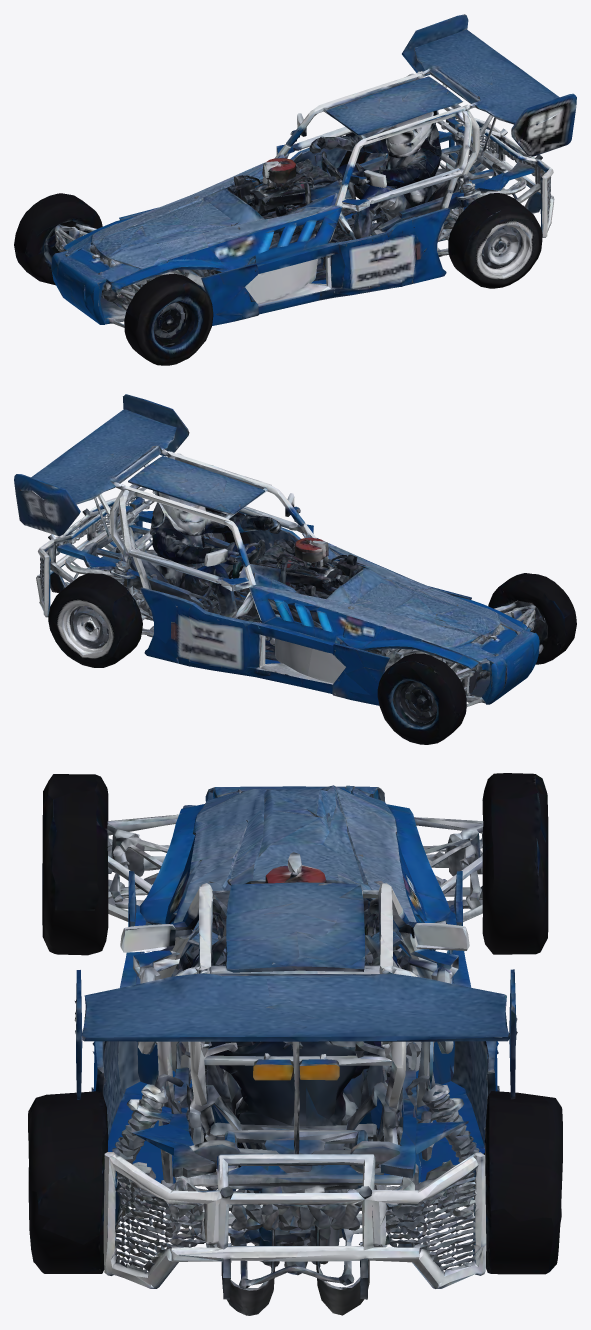
The model's file is car29.glb.
3 views of the same model, one above another, from view 1: azimuth 30°, elevation 25°; view 2: azimuth 150°, elevation 25°; view 3: azimuth 270°, elevation 25° (orthographic). The views are drawn at different scales.
Parts seen in each view (by area): view 1: mesh_node; view 2: mesh_node; view 3: mesh_node.
Boxes of the visible parts, box(x1,y1,x2,y2) form: mesh_node: box(14, 14, 576, 365); mesh_node: box(14, 394, 576, 744); mesh_node: box(28, 773, 562, 1315).
Size of the model in its own units: 1.9 by 0.6678 by 0.9635.
1 material, 1 textured.
